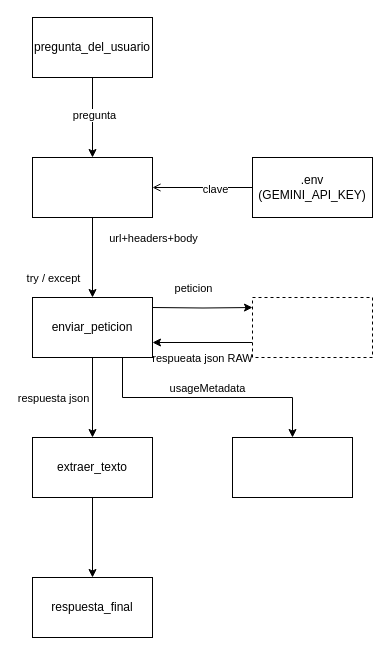
Image size: 390x655. Some labels were removed from this diagram. The centre of each missing label's shape, as x and y in pixels:
armar_peticion: the point at 92,187
calcular_costo: the point at 292,467
Proveedor(Gemini API): the point at 312,327
